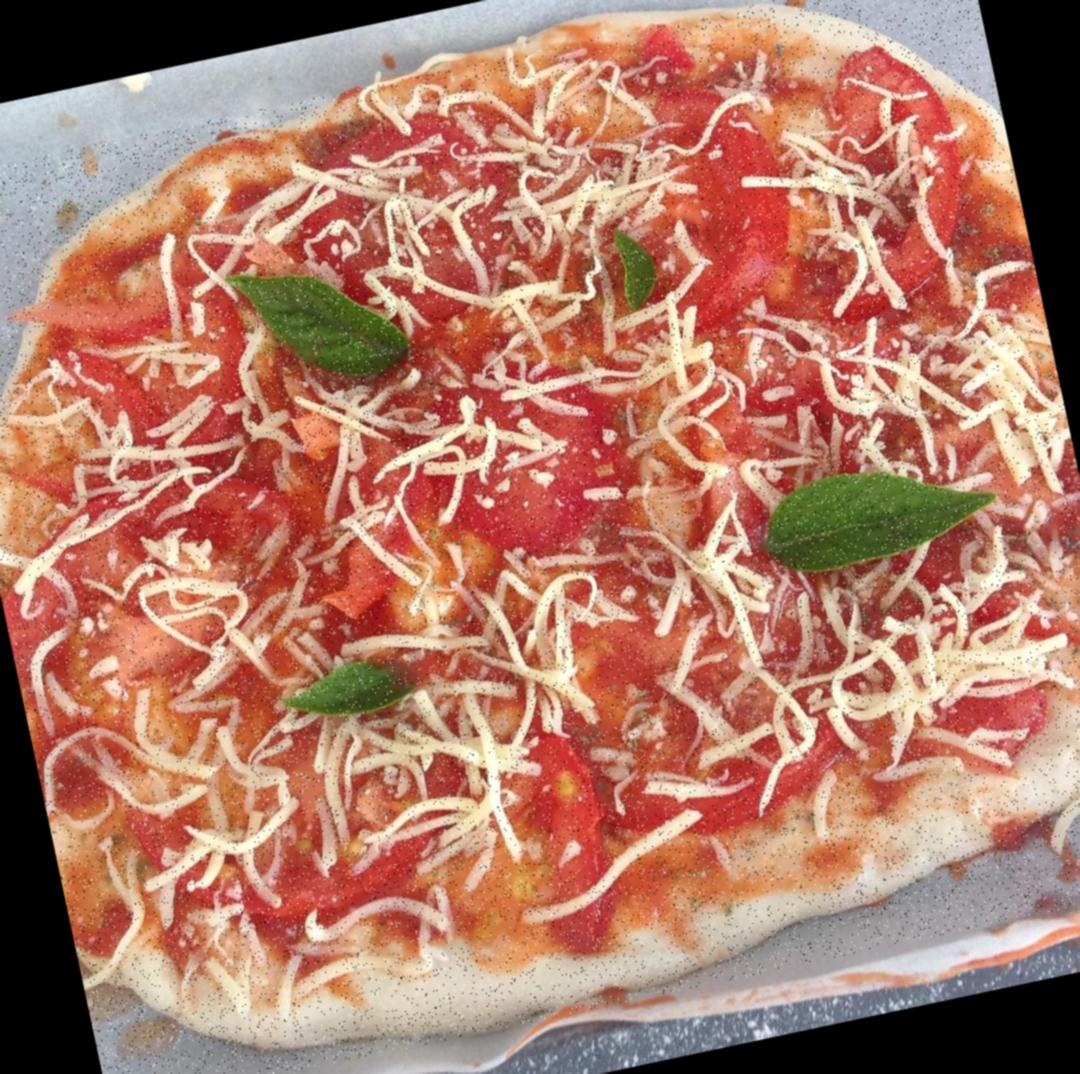Basil: (754, 445, 1008, 588), (230, 238, 428, 412), (278, 650, 419, 736), (604, 217, 676, 316)
Pizza: (0, 0, 1080, 1074)
Tomatoes: (125, 741, 493, 964), (408, 356, 640, 572), (816, 36, 988, 306), (642, 67, 806, 325), (600, 712, 874, 854), (503, 722, 642, 980), (0, 547, 127, 827), (85, 457, 304, 597), (49, 334, 201, 500), (290, 102, 496, 215), (0, 269, 206, 369)
